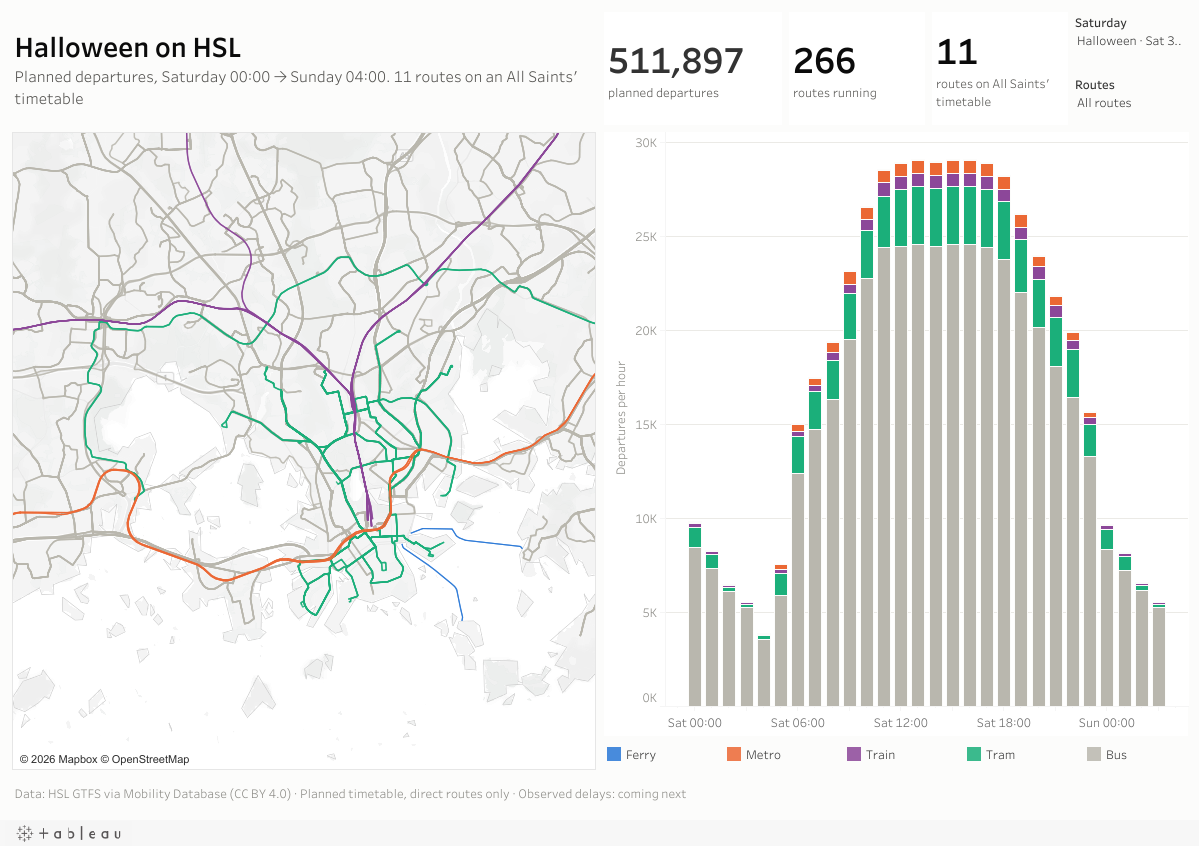

Layout of this report page (visuals, bound fields, positions):
{"tool":"tableau","page":{"name":"Dashboard 1","canvas":[1200,820],"ordinal":0},"visuals":[{"type":"text","box":[8,8,592,120]},{"type":"worksheet","title":"BAN departures","mark":"Automatic","box":[600,8,185,120]},{"type":"worksheet","title":"BAN routes","mark":"Automatic","box":[785,8,143,120]},{"type":"worksheet","title":"BAN holiday","mark":"Automatic","box":[928,8,143,120]},{"type":"parameter","param":"[Parameters].[Parameter 1111945049993216]","box":[1071,8,121,62]},{"type":"parameter","param":"[Parameters].[Parameter 1111945050382337]","box":[1071,70,121,58]},{"type":"worksheet","title":"Map","mark":"Automatic","box":[8,128,592,646]},{"type":"worksheet","title":"Hourly","mark":"Bar","rows":["departures"],"cols":["hour"],"box":[600,128,592,611.7]},{"type":"legend","title":"Map","param":"[federated.07oydqz0tkxvlp1d425xb1o8i0ne].[none:mode_group:nk]","box":[600,739.7,592,34.3]},{"type":"text","box":[8,774,1184,38]}]}

Visuals, with their boxes on the page's 1200x820 design canvas (x1, y1, x2, y2). These are canvas units, not pixel positions in the 1199x846 screenshot, which may show the page scaled, cropped or inside an application window:
text: [x1=8, y1=8, x2=600, y2=128]
"BAN departures" worksheet: [x1=600, y1=8, x2=785, y2=128]
"BAN routes" worksheet: [x1=785, y1=8, x2=928, y2=128]
"BAN holiday" worksheet: [x1=928, y1=8, x2=1071, y2=128]
parameter: [x1=1071, y1=8, x2=1192, y2=70]
parameter: [x1=1071, y1=70, x2=1192, y2=128]
"Map" worksheet: [x1=8, y1=128, x2=600, y2=774]
"Hourly" worksheet (Bar marks): [x1=600, y1=128, x2=1192, y2=740]
"Map" legend: [x1=600, y1=740, x2=1192, y2=774]
text: [x1=8, y1=774, x2=1192, y2=812]
